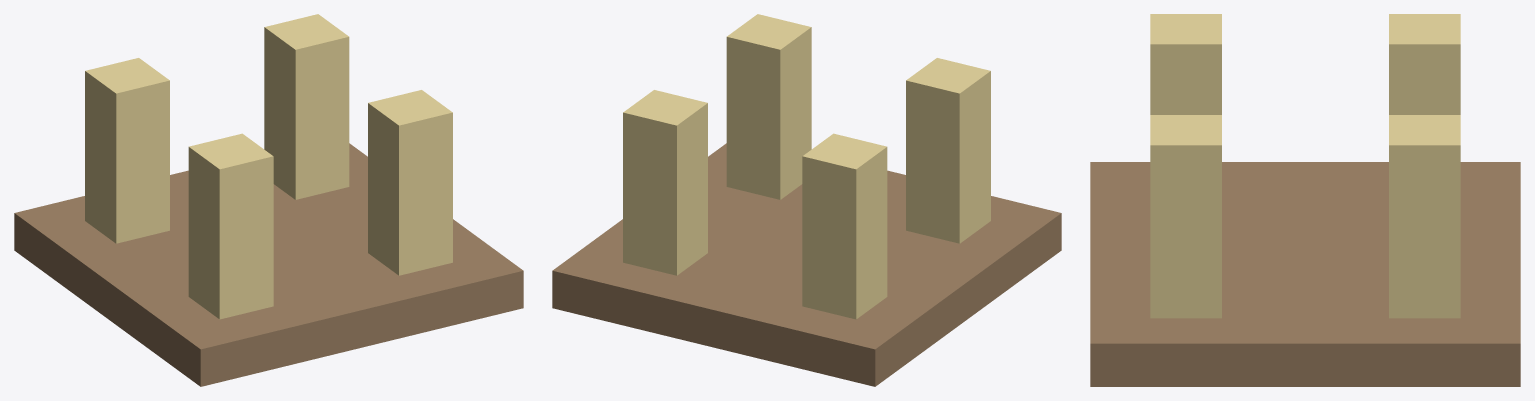
The model's file is Prop_DS_Crop_Groat.glb.
3 views of the same model, side by side, from view 1: azimuth 30°, elevation 25°; view 2: azimuth 150°, elevation 25°; view 3: azimuth 270°, elevation 25° (orthographic). The views are drawn at different scales.
Visible parts, largest first — view 1: Prop_DS_Crop_Groat; view 2: Prop_DS_Crop_Groat; view 3: Prop_DS_Crop_Groat.
Part boxes in pixels (x1=…): Prop_DS_Crop_Groat: x1=14, y1=14, x2=523, y2=386; Prop_DS_Crop_Groat: x1=552, y1=14, x2=1061, y2=386; Prop_DS_Crop_Groat: x1=1090, y1=14, x2=1520, y2=386.
Bounding box in the file's own units: 0.9 × 0.5 × 0.9.
